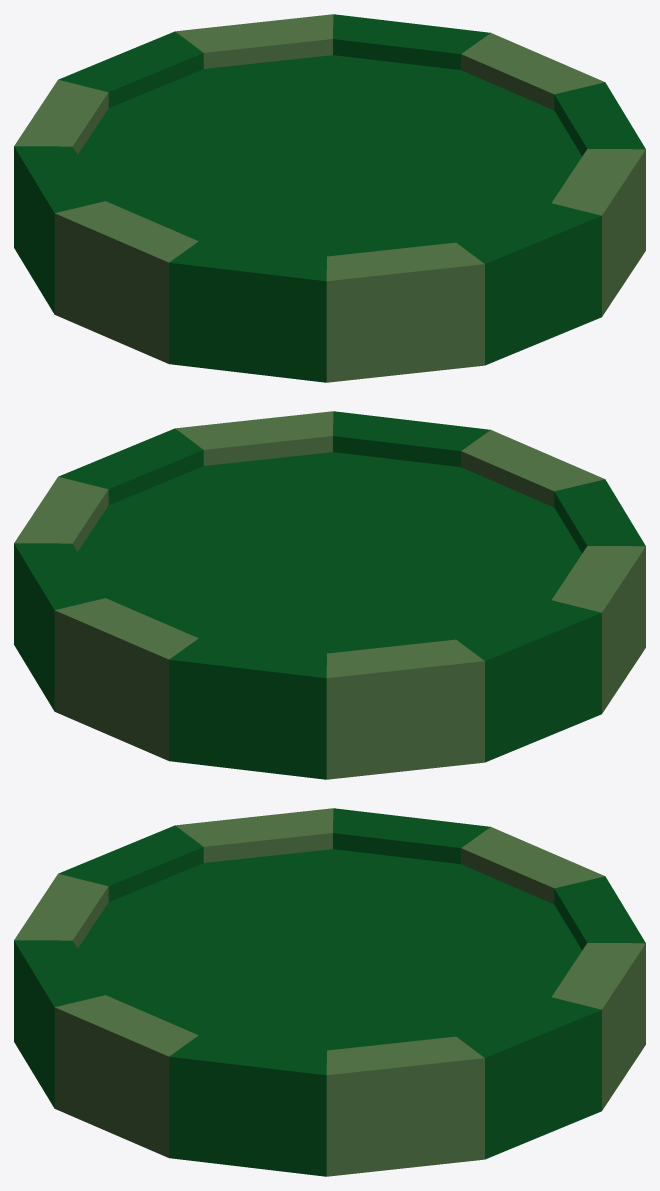
3 renders of one model, top to bottom at view 1: azimuth 30°, elevation 25°; view 2: azimuth 150°, elevation 25°; view 3: azimuth 270°, elevation 25°, orthographic.
Visible parts, largest first — view 1: Cylinder.003; view 2: Cylinder.003; view 3: Cylinder.003.
Boxes of the visible parts, box(x1,y1,x2,y2) form: Cylinder.003: box(14, 14, 645, 382); Cylinder.003: box(14, 411, 645, 779); Cylinder.003: box(14, 808, 645, 1176).
Bounding box in the file's own units: 150 × 26.64 × 150.
